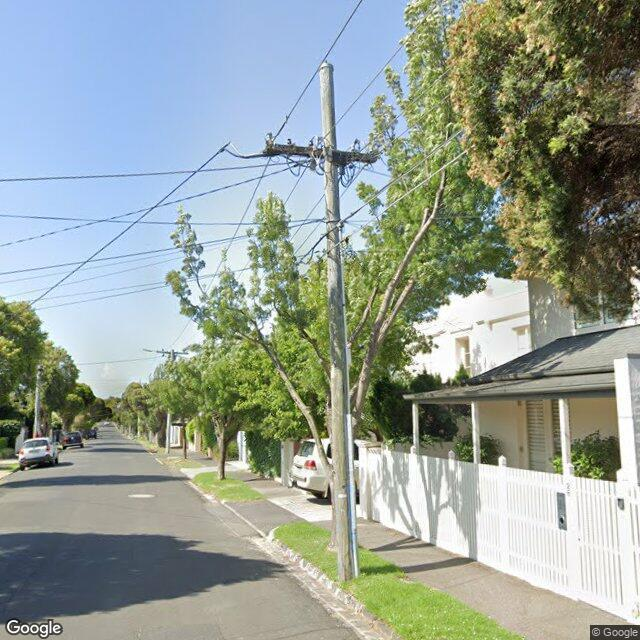crossarm: (265, 144, 377, 164), (157, 350, 188, 354)
streetlight: (142, 348, 156, 353)
timber-pole: (319, 63, 356, 581), (166, 349, 174, 453), (34, 365, 42, 438)
